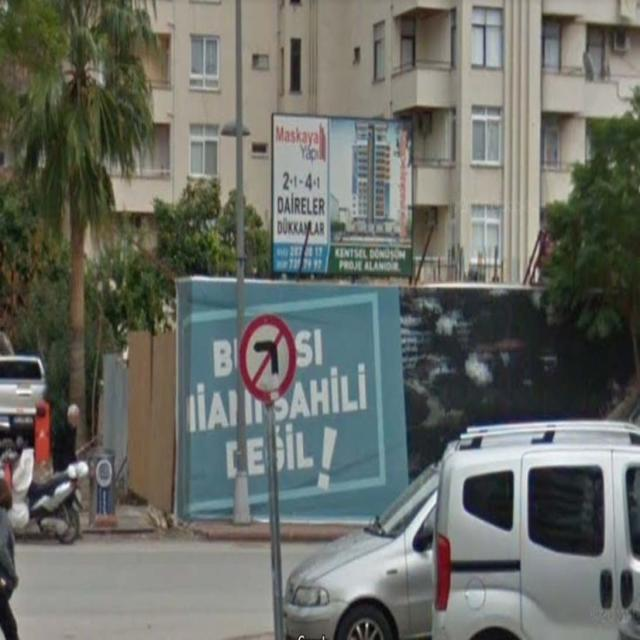soladonulmez: (239, 314, 296, 402)
